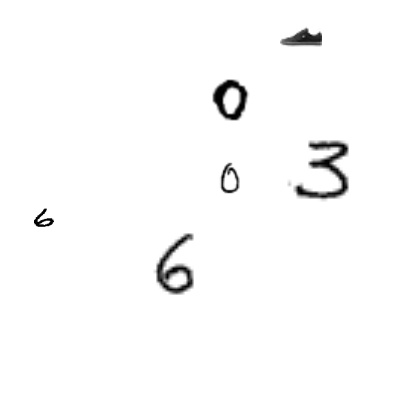0: (201, 70, 257, 126), (208, 157, 250, 199)
3: (285, 126, 369, 210)
6: (130, 225, 214, 309), (29, 206, 57, 234)
Sneaker: (280, 15, 322, 57)
